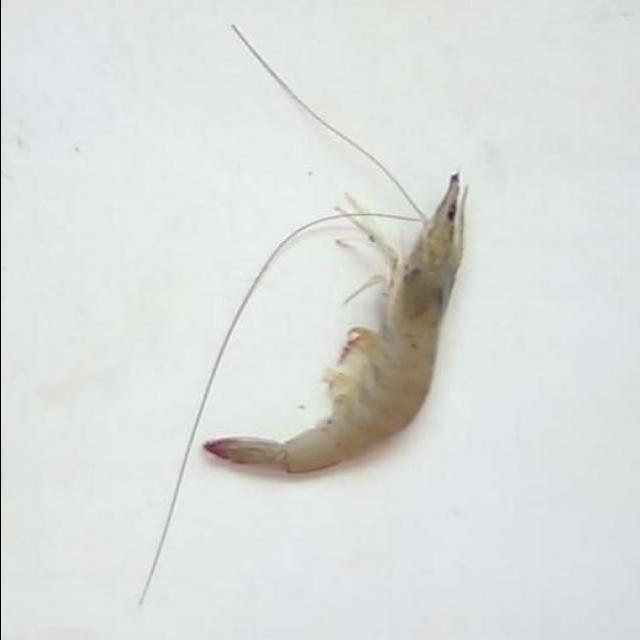shrimp: (204, 173, 466, 474)
